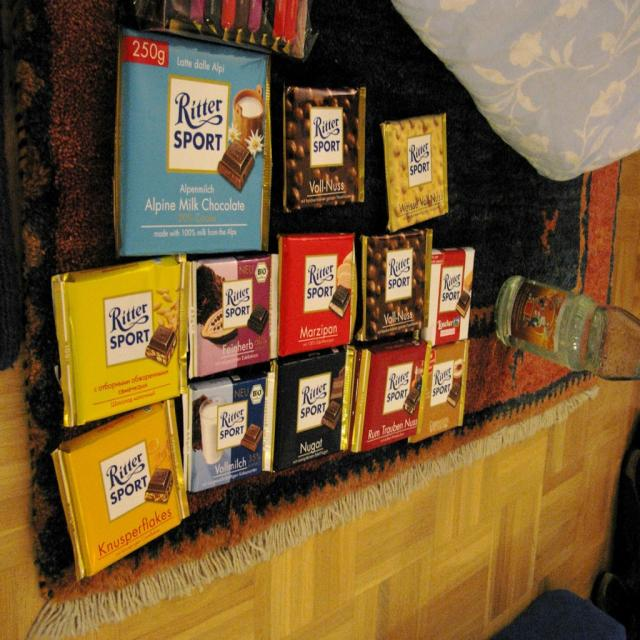rittersport: (167, 75, 231, 174), (100, 442, 156, 520), (104, 291, 159, 368), (297, 373, 334, 432), (310, 106, 345, 168), (303, 255, 338, 316), (216, 399, 251, 453), (404, 133, 435, 189), (222, 280, 256, 329), (385, 362, 416, 413), (386, 252, 415, 302), (439, 265, 467, 315), (429, 359, 455, 410)
